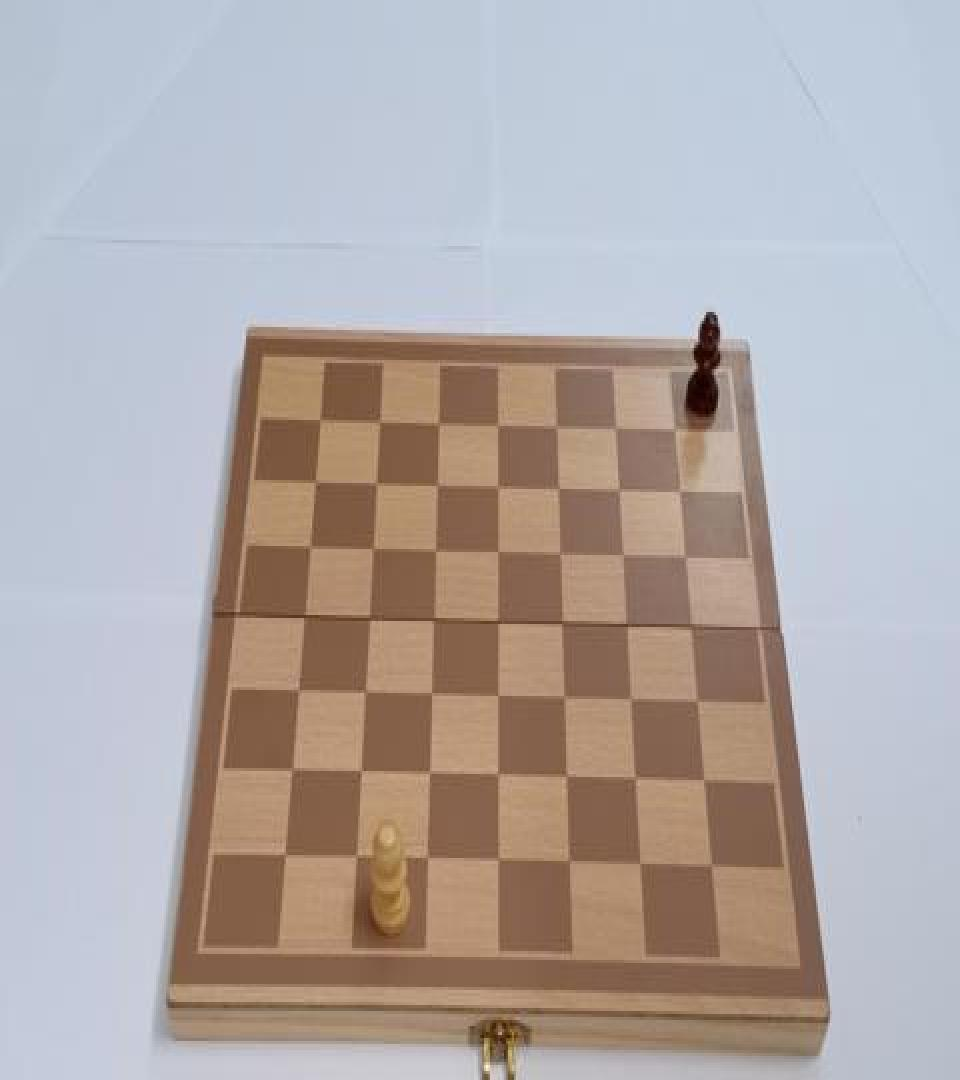xcorner: (368, 472, 386, 500), (429, 412, 447, 440), (420, 760, 438, 788), (669, 478, 687, 506), (313, 411, 331, 438), (308, 471, 326, 498), (302, 537, 320, 564), (296, 606, 314, 633), (276, 843, 294, 870), (371, 411, 389, 438), (364, 538, 382, 565), (356, 681, 374, 708), (351, 759, 369, 786), (347, 844, 365, 871), (428, 474, 446, 501), (426, 538, 444, 565), (424, 609, 442, 636), (422, 683, 440, 710), (418, 846, 436, 873), (488, 414, 506, 441), (488, 540, 506, 567), (488, 609, 506, 636), (488, 684, 506, 711), (488, 762, 506, 789), (546, 415, 564, 442), (548, 477, 566, 504), (552, 610, 570, 637), (557, 765, 575, 792), (560, 849, 578, 876), (605, 415, 623, 442), (609, 477, 627, 504), (613, 543, 631, 570), (617, 612, 635, 639), (621, 687, 639, 714), (626, 766, 644, 793), (631, 851, 649, 878), (664, 417, 682, 444), (675, 545, 693, 572), (688, 689, 706, 716), (695, 768, 713, 795), (702, 852, 720, 879), (290, 680, 308, 706), (283, 758, 301, 784), (360, 608, 378, 634), (488, 476, 506, 502), (489, 848, 507, 874), (550, 542, 568, 568), (555, 686, 573, 712), (681, 614, 699, 640)
